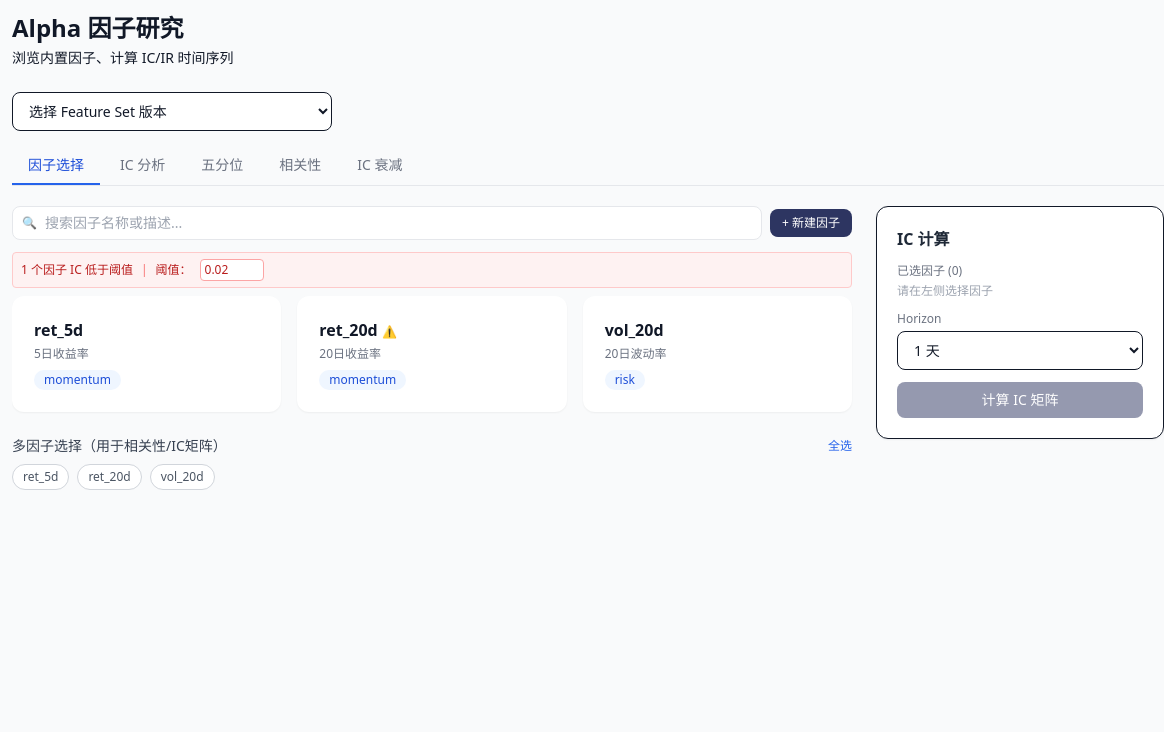
Test: FactorsPage › filters factors by search
This screenshot has width=1164, height=732.
Type "vol" into the field with placeholder "搜索因子名称或描述..." at (387, 223), box [12,206,762,240]
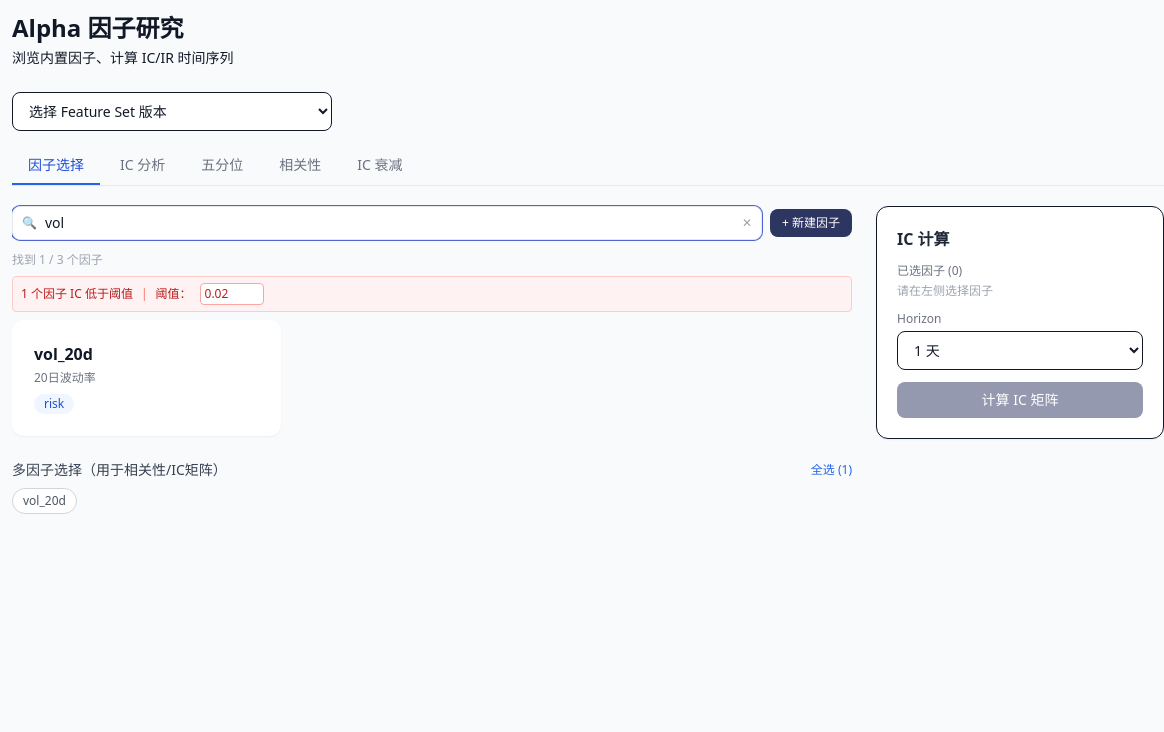
Expected: the text "5日收益率" is gone
